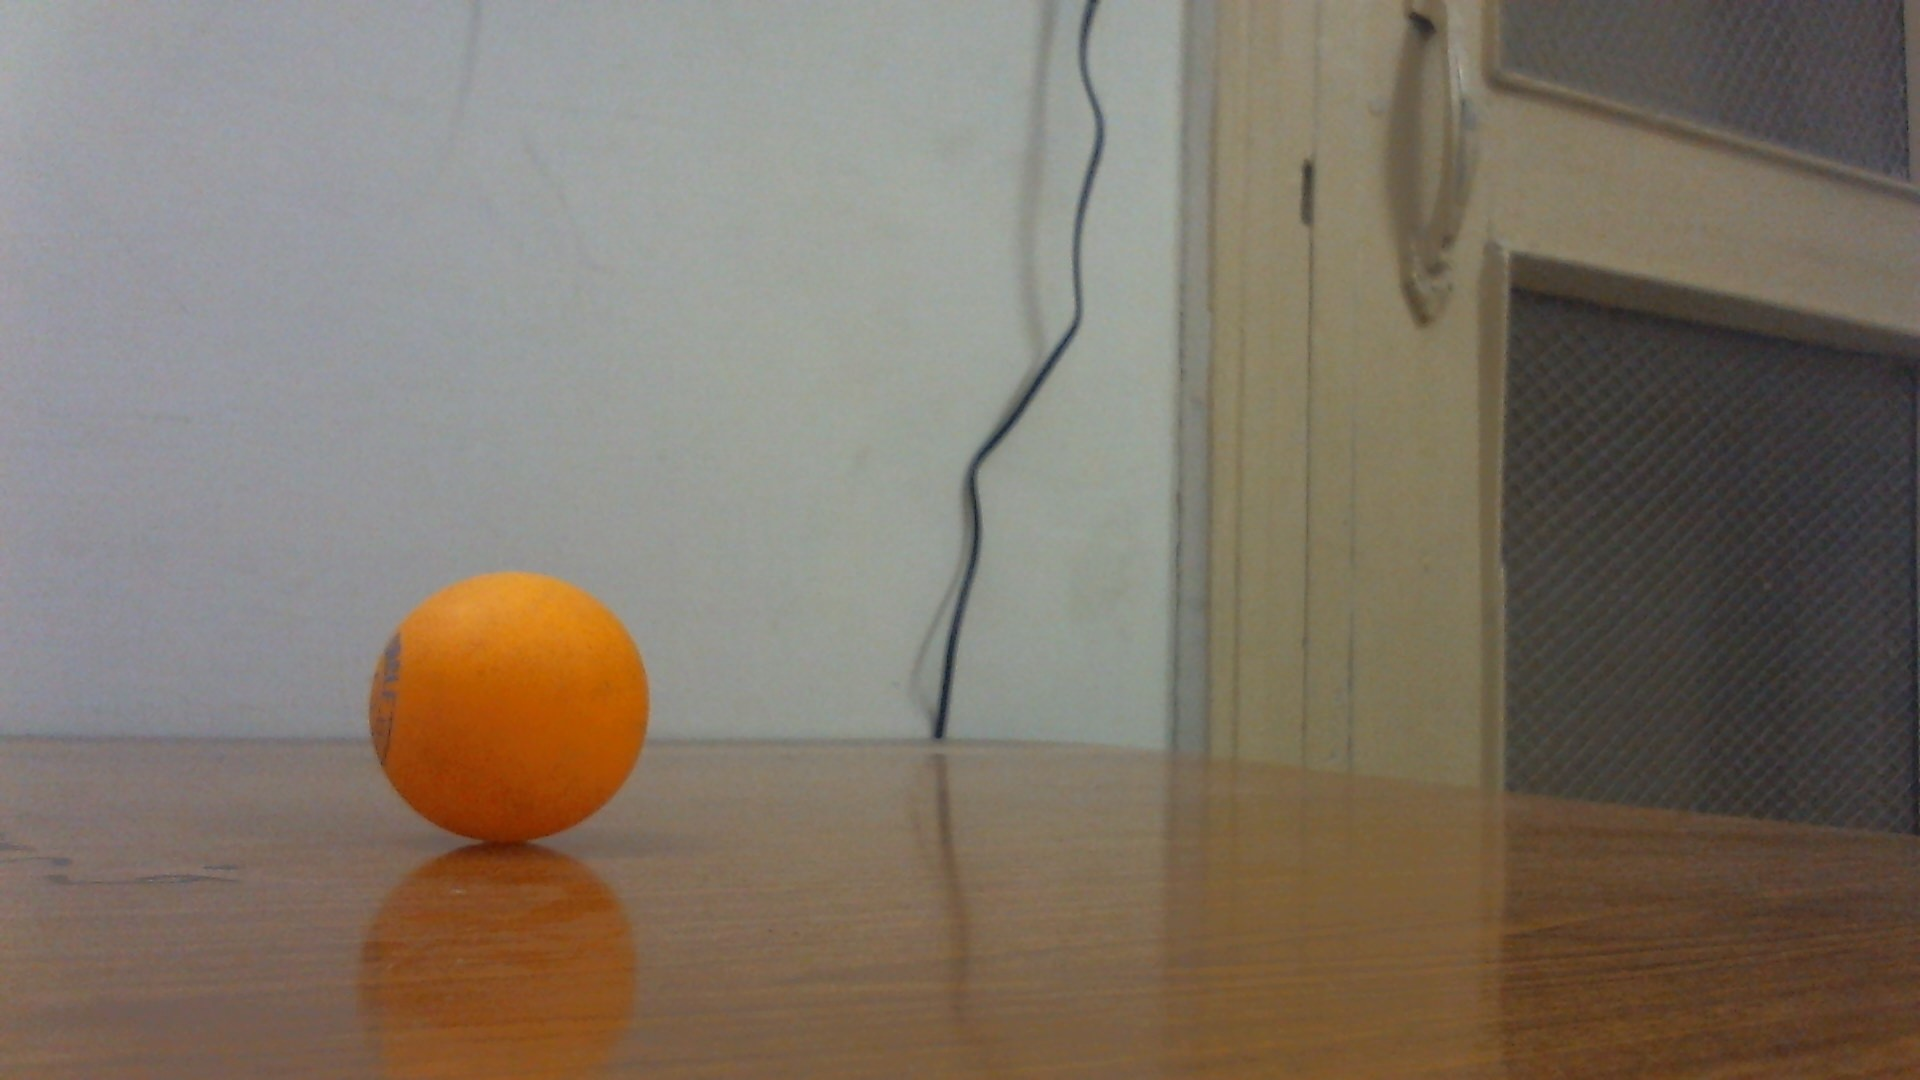ball: (364, 568, 650, 848)
